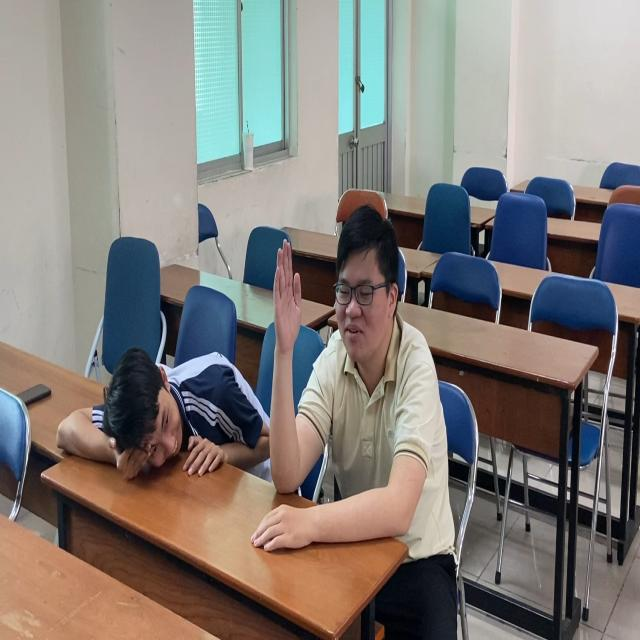raise_hand: (262, 196, 456, 566)
sleep: (54, 349, 265, 489)
